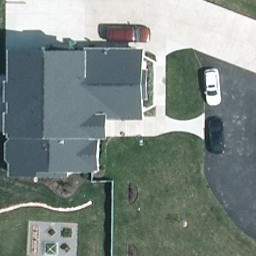car: (205, 116, 228, 162), (103, 24, 152, 44), (203, 67, 224, 107)
